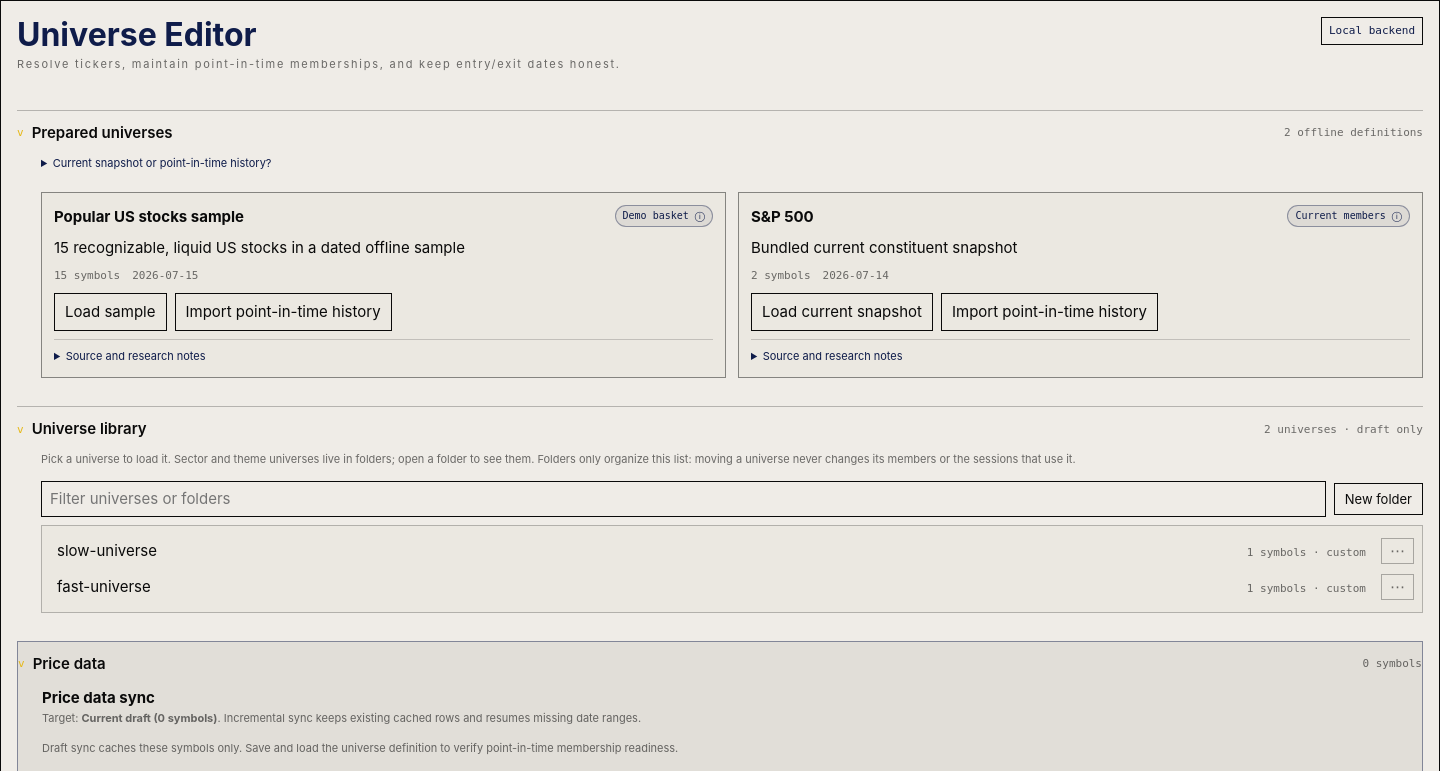
Test: UniverseEditorPage › ignores a slower universe response after the user selects another definition
The width and height of the screenshot is (1440, 771).
Click the button with aria-label "Load slow-universe": x=107, y=550 top-left (50, 534), bottom-right (1373, 568)
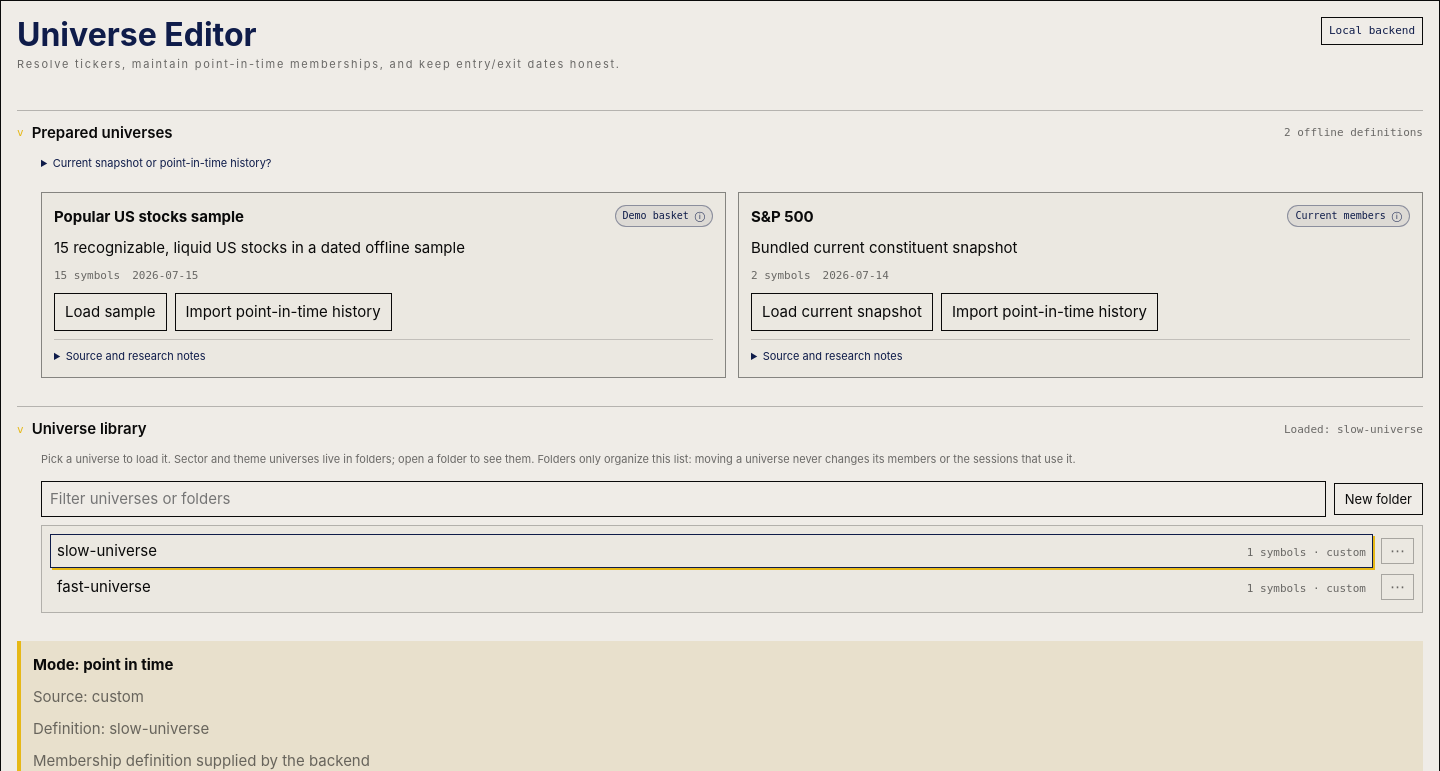
Click the button "fast-universe 1 symbols · custom": x=104, y=586 top-left (50, 570), bottom-right (1373, 604)
(page scrolled)
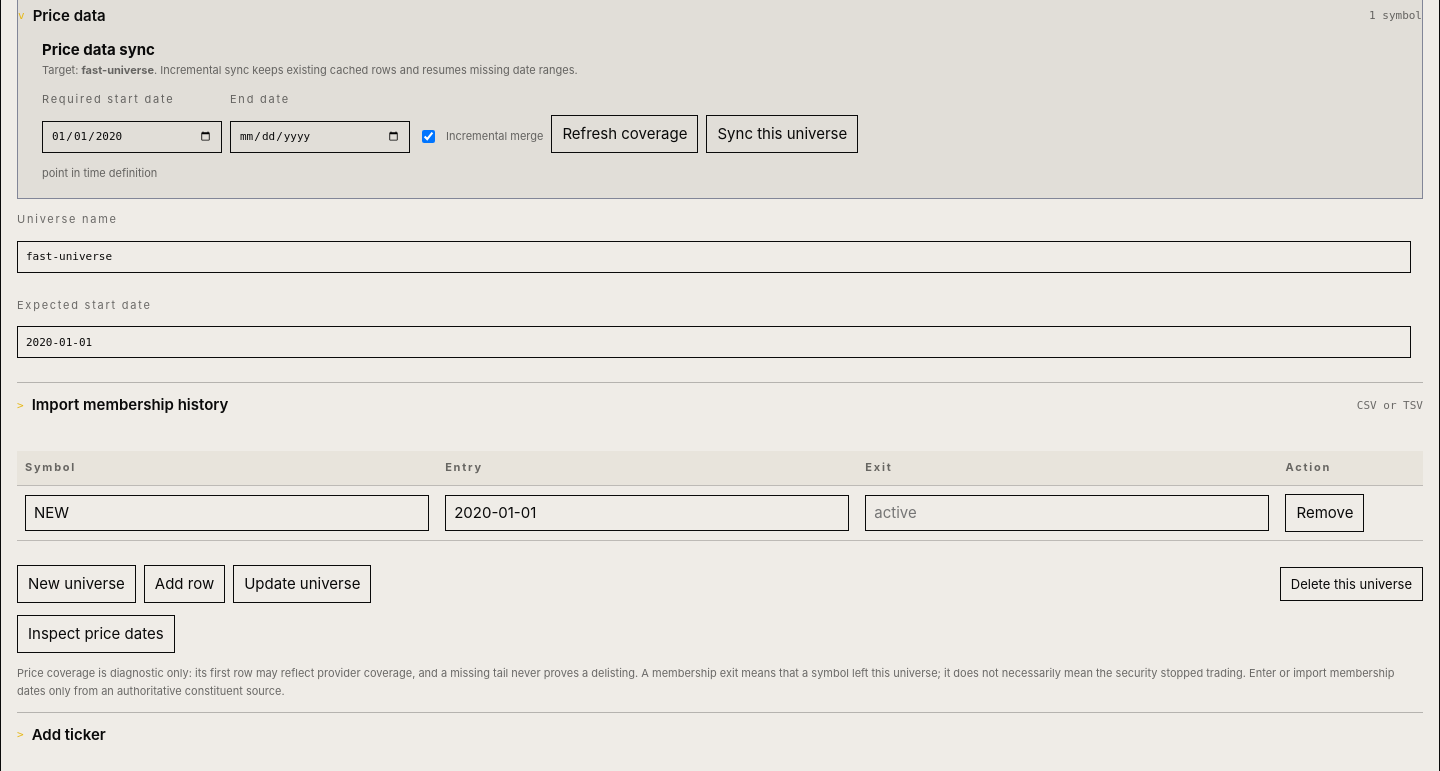
Expected: the field labelled "Universe name" holds "fast-universe", top-left (17, 241), bottom-right (1411, 273)
Expected: the field named "symbol-0" holds "NEW", top-left (25, 495), bottom-right (429, 531)
